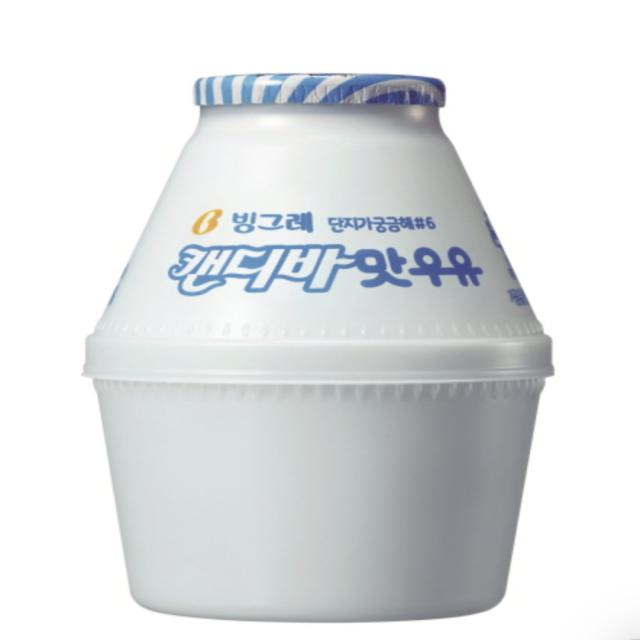recyclable: (61, 30, 584, 632)
